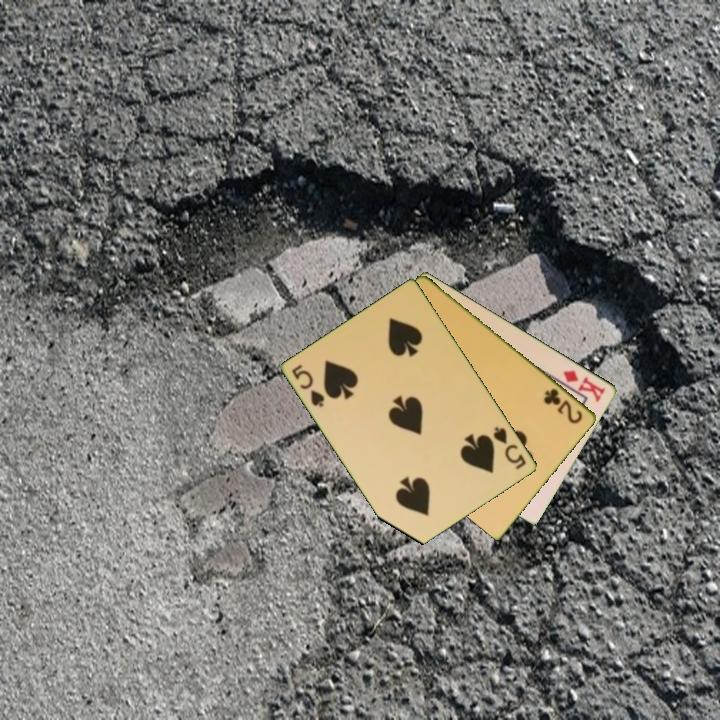2c: (540, 385, 586, 427)
5s: (288, 361, 328, 410), (490, 423, 529, 472)
Kd: (559, 366, 609, 405)
